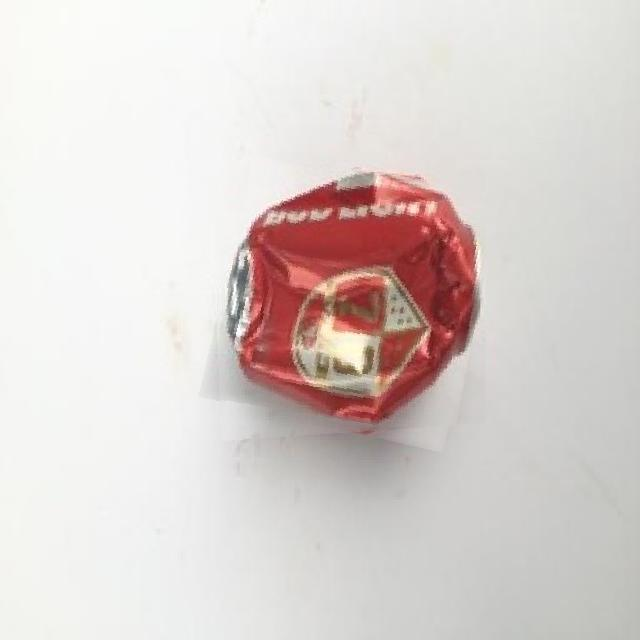recyclable: (211, 167, 486, 441)
